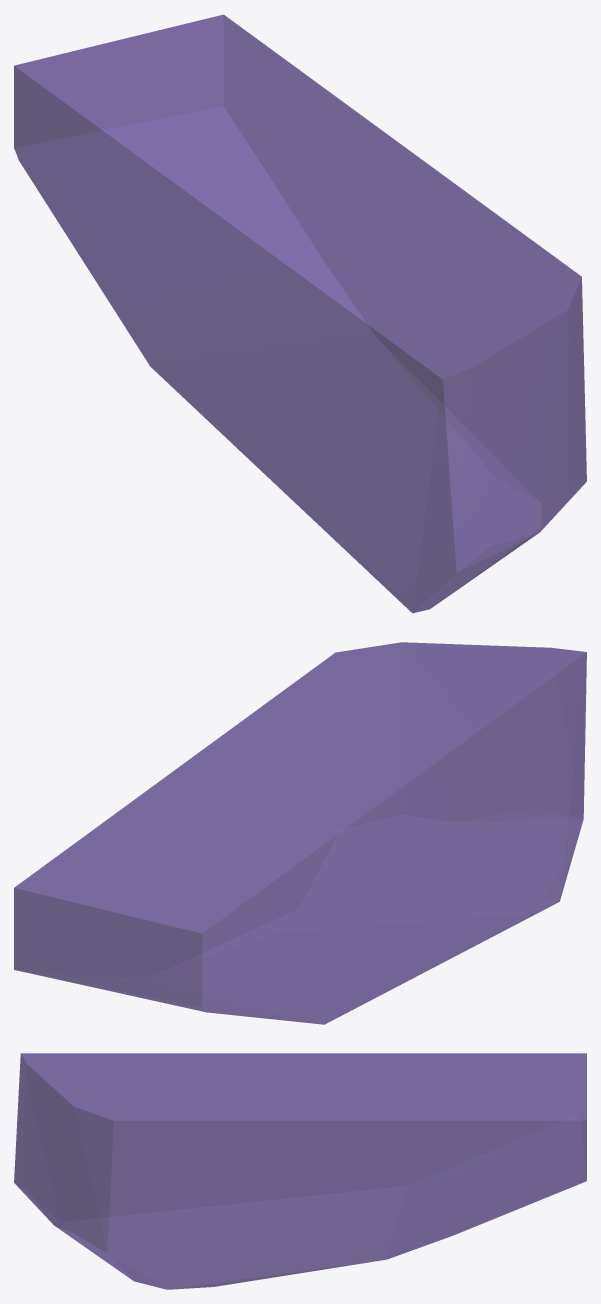
3 renders of one model, top to bottom at view 1: azimuth 30°, elevation 25°; view 2: azimuth 150°, elevation 25°; view 3: azimuth 270°, elevation 25°, orthographic. The views are drawn at different scales.
Visible parts, largest first — view 1: Shape_IndexedFaceSet.012_Shape_IndexedFaceSet.3600; view 2: Shape_IndexedFaceSet.012_Shape_IndexedFaceSet.3600; view 3: Shape_IndexedFaceSet.012_Shape_IndexedFaceSet.3600.
Part boxes in pixels (x1=…): Shape_IndexedFaceSet.012_Shape_IndexedFaceSet.3600: x1=14, y1=14, x2=586, y2=613; Shape_IndexedFaceSet.012_Shape_IndexedFaceSet.3600: x1=14, y1=642, x2=586, y2=1024; Shape_IndexedFaceSet.012_Shape_IndexedFaceSet.3600: x1=14, y1=1053, x2=586, y2=1289.
Bounding box in the file's own units: 0.0456 × 0.0532 × 0.1635.
